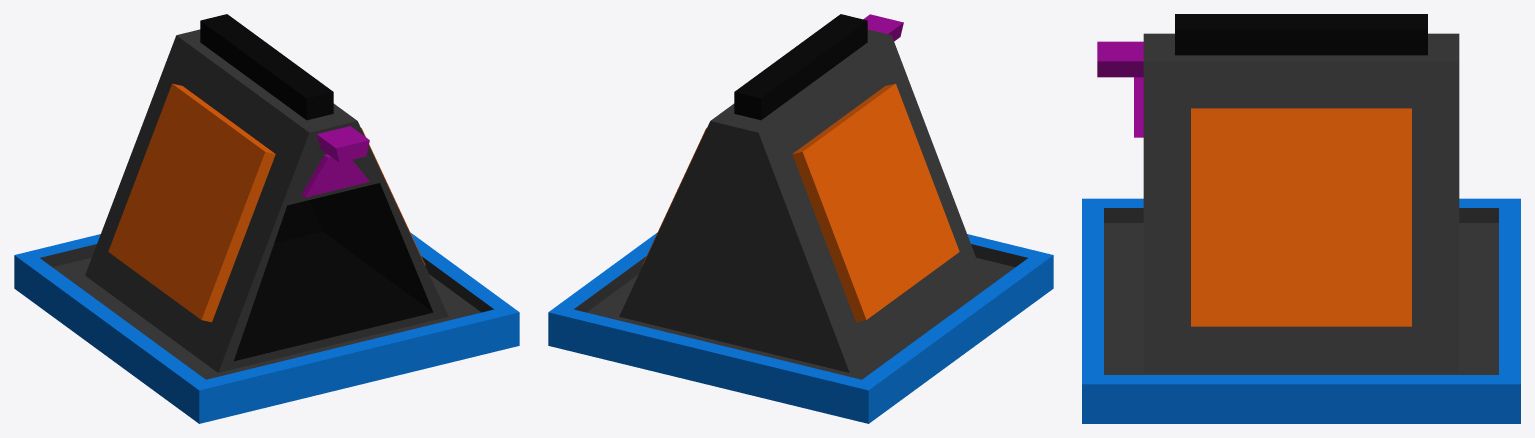
File: building_factory.fbx
The picture shows the model from 3 angles, left to right: view 1: azimuth 30°, elevation 25°; view 2: azimuth 150°, elevation 25°; view 3: azimuth 270°, elevation 25°; orthographic projection. The views are drawn at different scales.
Visible parts, largest first — view 1: Factory; view 2: Factory; view 3: Factory.
Part boxes in pixels (left/top/right/bottom): Factory: left=14, top=14, right=519, bottom=423; Factory: left=548, top=14, right=1053, bottom=423; Factory: left=1082, top=14, right=1520, bottom=423.
Size of the model in its own units: 200 by 156 by 200.
